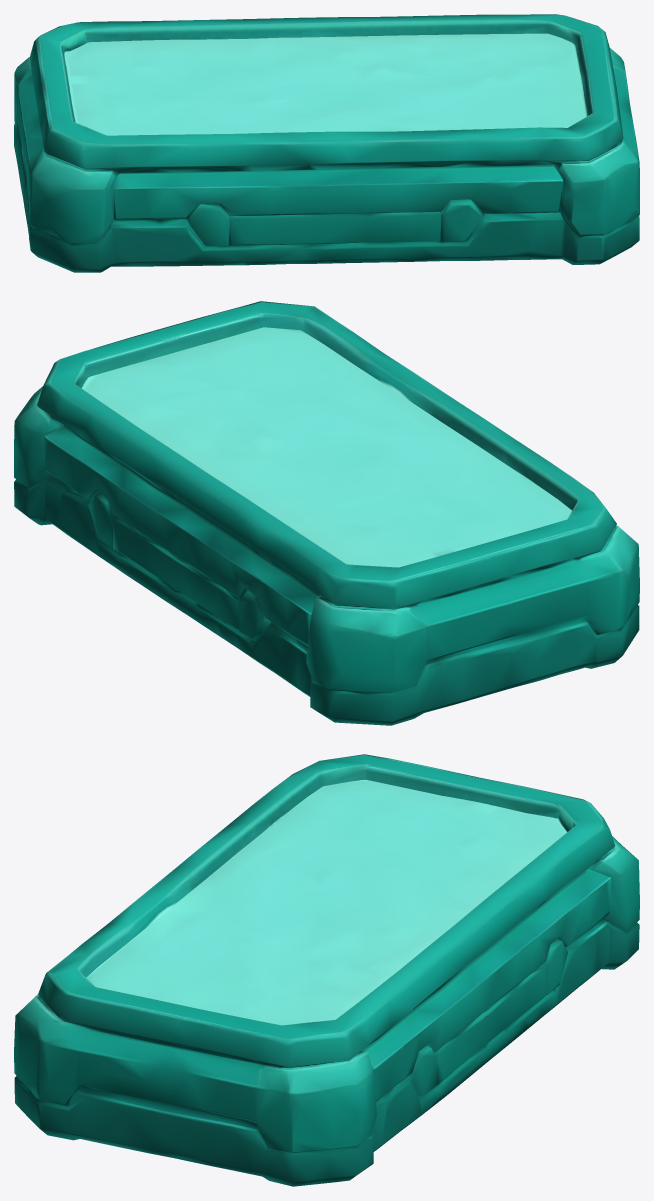
File: brick.glb
The picture shows the model from 3 angles, top to bottom: view 1: azimuth 30°, elevation 25°; view 2: azimuth 150°, elevation 25°; view 3: azimuth 270°, elevation 25°; orthographic projection. The views are drawn at different scales.
Parts seen in each view (by area): view 1: tripo_node_9d33b070-ca35-48c0-99e0-9f01b0b91d02; view 2: tripo_node_9d33b070-ca35-48c0-99e0-9f01b0b91d02; view 3: tripo_node_9d33b070-ca35-48c0-99e0-9f01b0b91d02.
Part boxes in pixels (x1,y1,x2,y2): tripo_node_9d33b070-ca35-48c0-99e0-9f01b0b91d02: [14, 14, 639, 272]; tripo_node_9d33b070-ca35-48c0-99e0-9f01b0b91d02: [14, 301, 639, 725]; tripo_node_9d33b070-ca35-48c0-99e0-9f01b0b91d02: [14, 754, 639, 1186].
Size of the model in its own units: 0.9785 by 0.2064 by 0.8317.
Materials: 1 (1 with a texture image).
